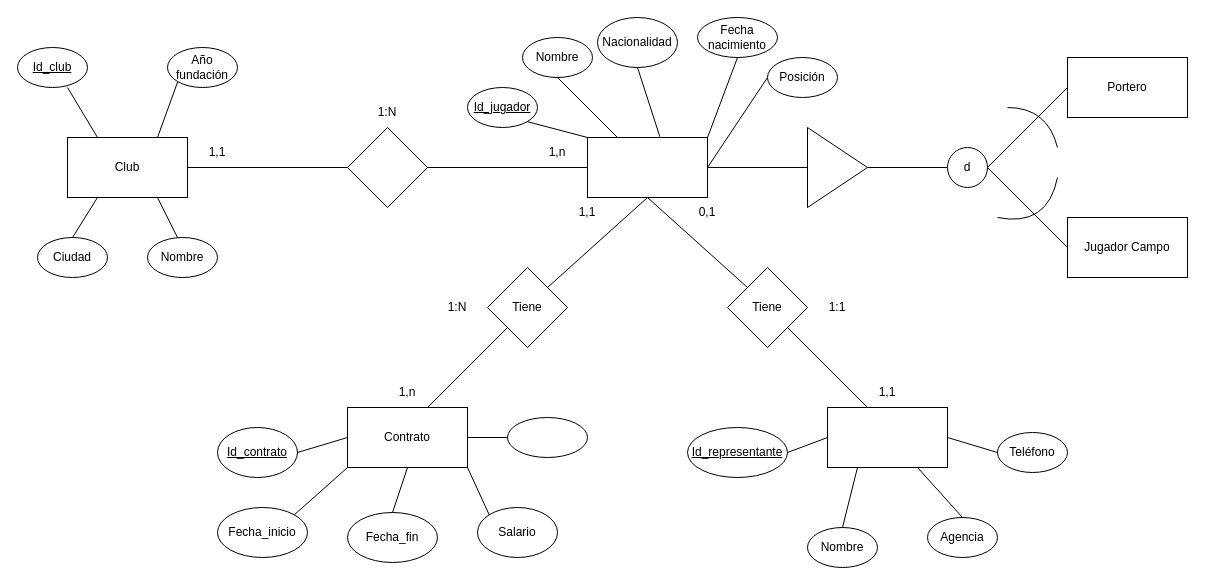
Image size: 1205x585. Some labels were removed from this diagram. Here are the shapes that lost their labels. From the top down, the centre of each, then its label:
pixel 387 167: Ficha
pixel 647 167: Jugador
pixel 547 437: Claúsula
pixel 887 437: Representante
